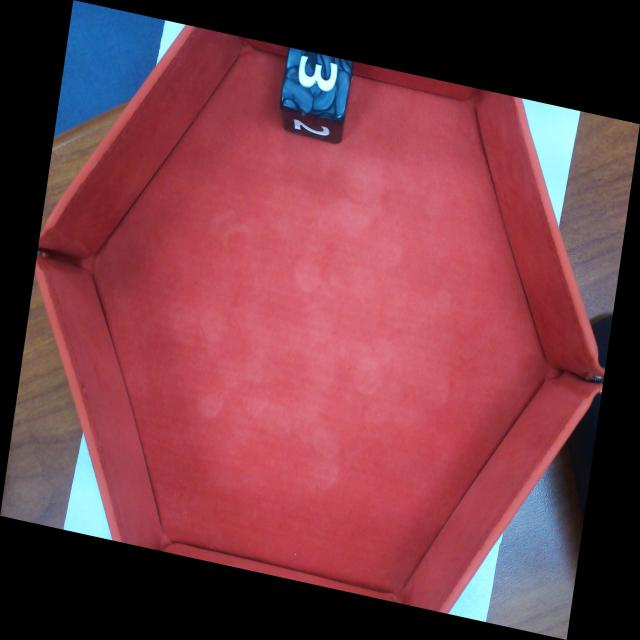dice: (279, 47, 354, 125)
